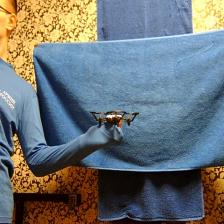drone: (88, 109, 140, 128)
